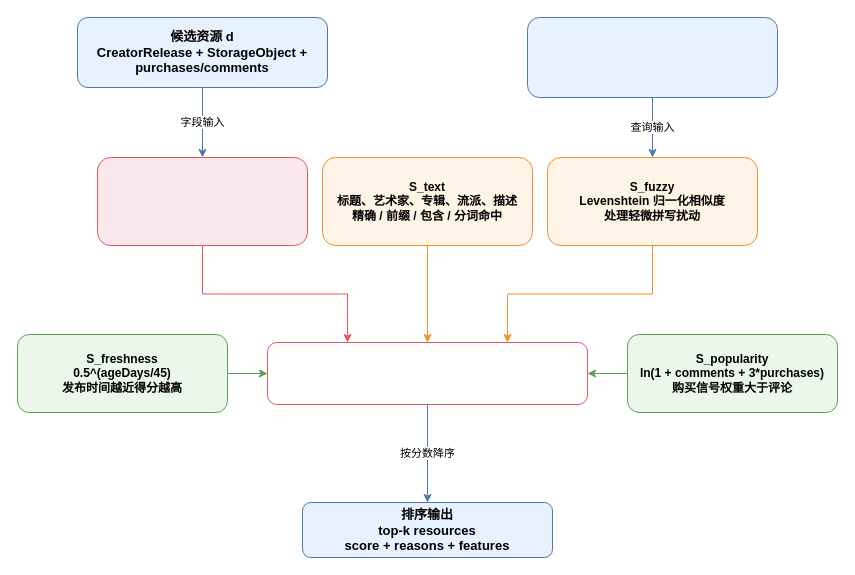
Some shapes in this 855 by 575 pixel diagram are drawn without their labels. Each missing label, with the centre of its shape:
S_identity resourceKey、Token ID、合约地址、txHash、CID 最高优先级，支持精确定位: point (202, 201)
Score(d,q) identity + text + fuzzy + freshness + popularity: point (427, 373)
用户查询 q normalized / compact / tokens address / cid / tokenId / resourceKey: point (652, 57)
